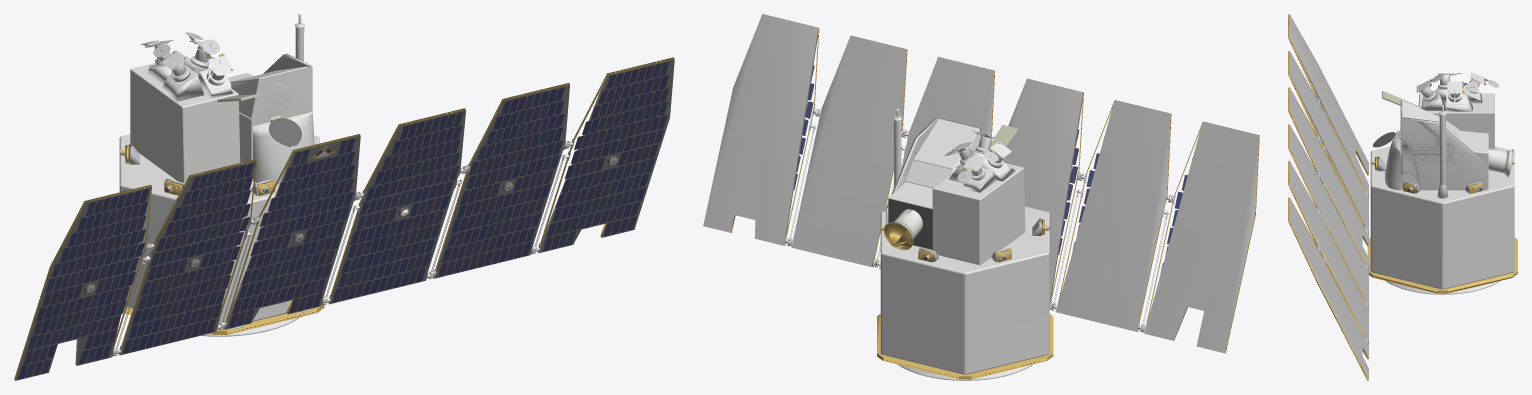
Rendered from aeronomy-of-ice-in-the-mesosphere.glb.
3 renders of one model, left to right at view 1: azimuth 30°, elevation 25°; view 2: azimuth 150°, elevation 25°; view 3: azimuth 270°, elevation 25°, orthographic. The views are drawn at different scales.
Visible parts, largest first — view 1: Fake; view 2: Fake; view 3: Fake.
Part boxes in pixels (x1,y1,x2,y2): Fake: [14, 14, 674, 380]; Fake: [703, 14, 1259, 380]; Fake: [1288, 14, 1517, 380].
Size of the model in its own units: 41.4 by 17.21 by 18.53.
